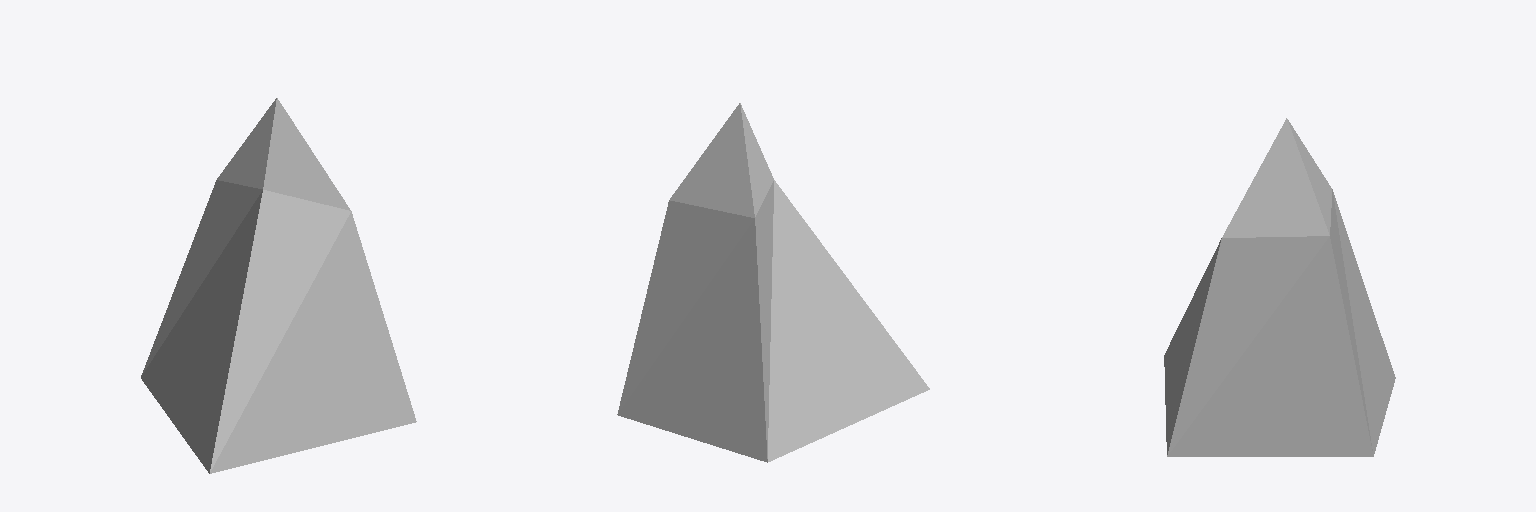
Rendered from mountain_2.obj.
The picture shows the model from 3 angles: view 1: azimuth 30°, elevation 25°; view 2: azimuth 150°, elevation 25°; view 3: azimuth 270°, elevation 25°; orthographic projection.
Visible parts, largest first — view 1: mountain.001_Cube.149; view 2: mountain.001_Cube.149; view 3: mountain.001_Cube.149.
Boxes of the visible parts, <box> form: mountain.001_Cube.149: <box>141,98,416,473</box>; mountain.001_Cube.149: <box>617,103,929,462</box>; mountain.001_Cube.149: <box>1164,118,1395,456</box>.
Size of the model in its own units: 2.72 by 3.74 by 2.61.